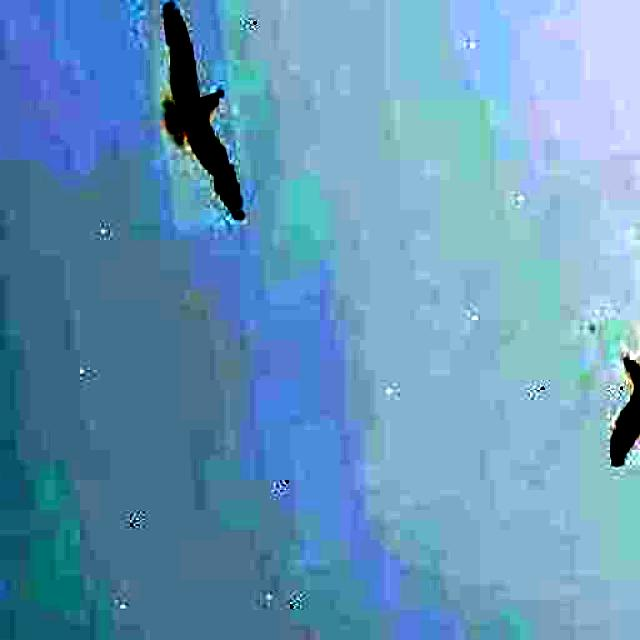airplane: (145, 0, 249, 234), (594, 311, 640, 469)
